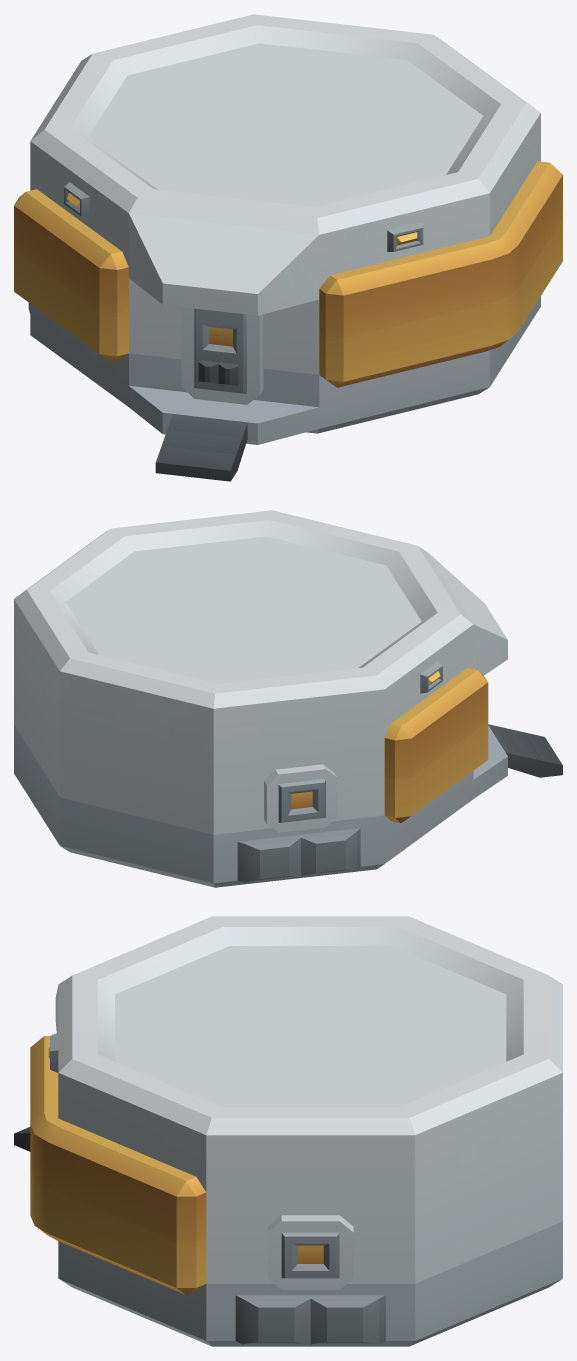
File: basemodule-a.glb
3 views of the same model, one above another, from view 1: azimuth 30°, elevation 25°; view 2: azimuth 150°, elevation 25°; view 3: azimuth 270°, elevation 25° (orthographic). The views are drawn at different scales.
Visible parts, largest first — view 1: basemodule_A; view 2: basemodule_A; view 3: basemodule_A.
Part boxes in pixels (left/top/right/bottom): basemodule_A: left=14, top=14, right=562, bottom=481; basemodule_A: left=14, top=510, right=562, bottom=887; basemodule_A: left=14, top=916, right=562, bottom=1346.
Size of the model in its own units: 2.25 by 1 by 2.18.
1 material, 1 textured.
